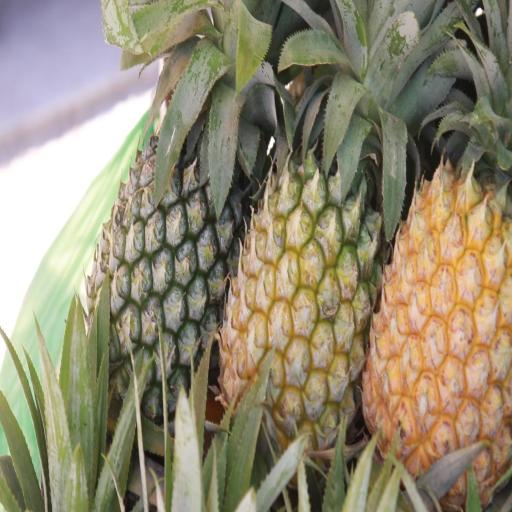------------------------------: (216, 12, 386, 468)
Pineapple - v8 v1: (353, 0, 512, 480)
